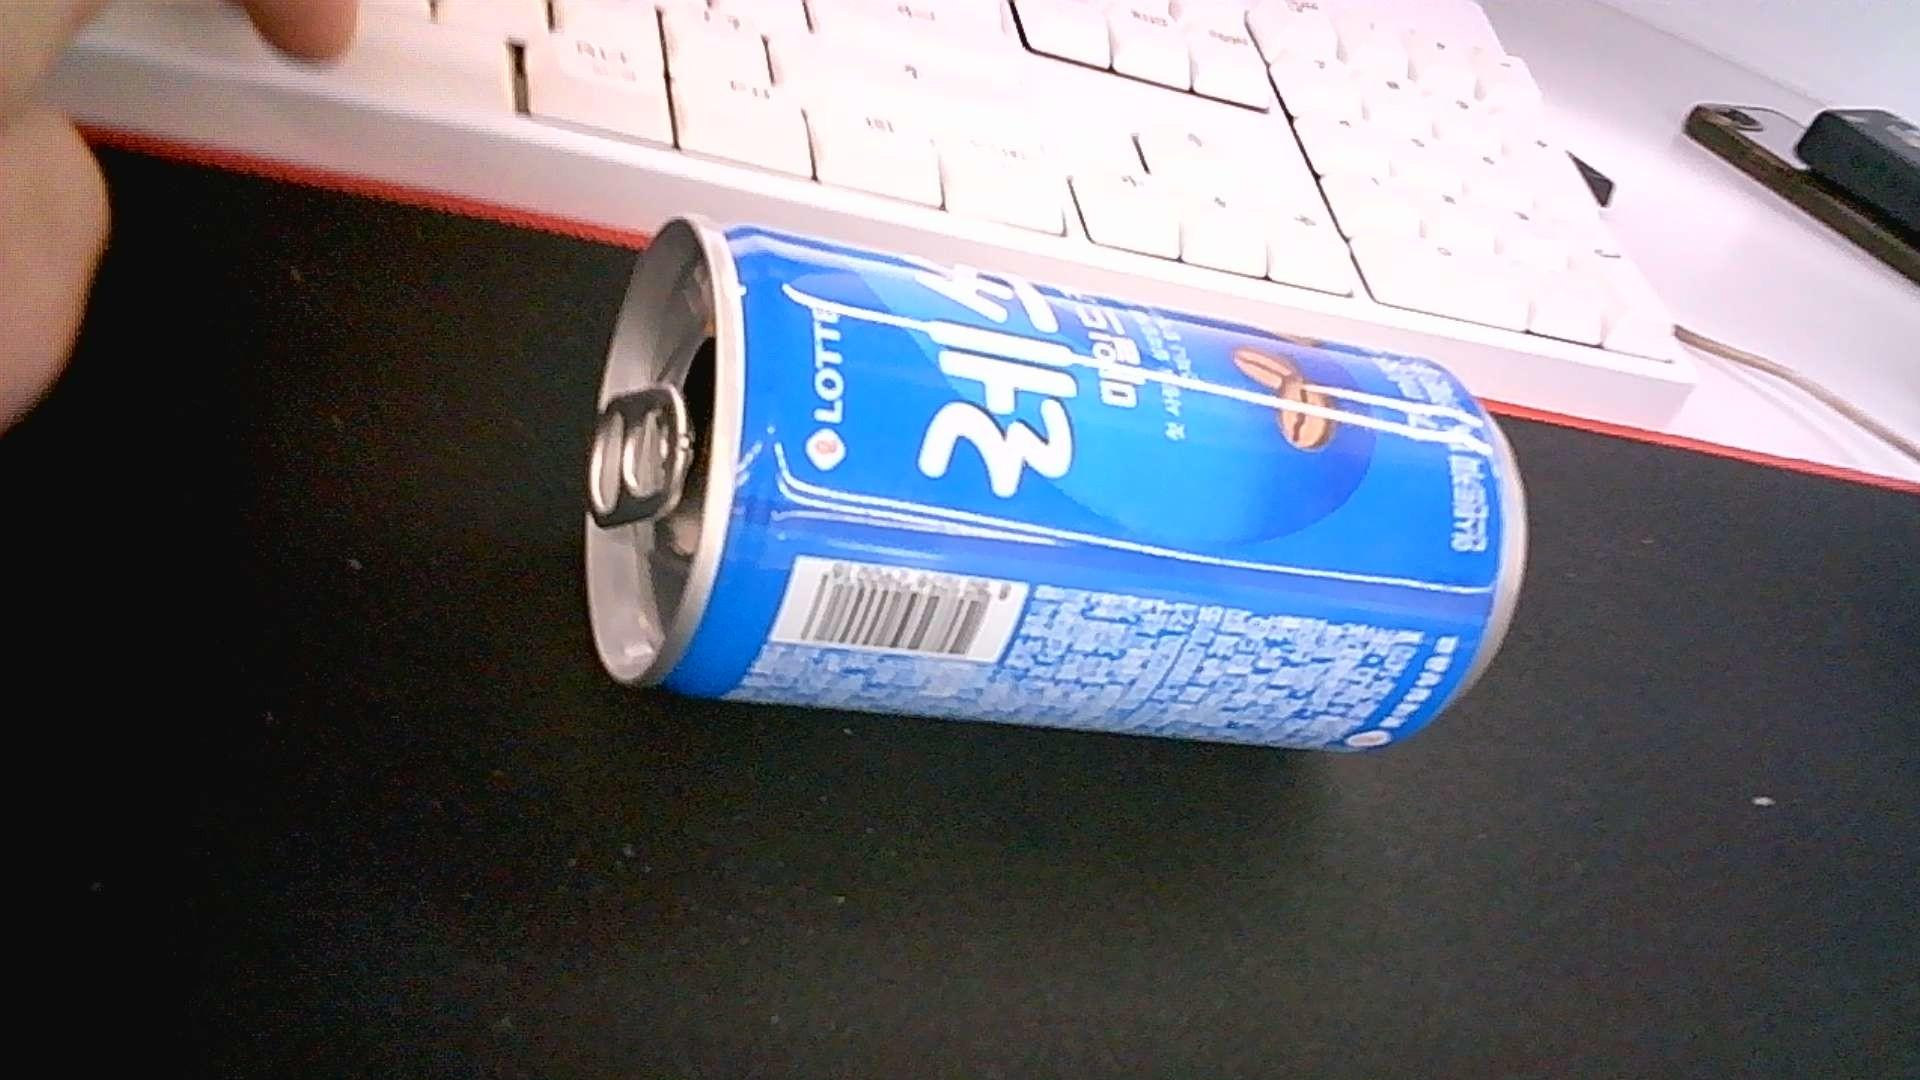letsbe: (583, 216, 1528, 756)
